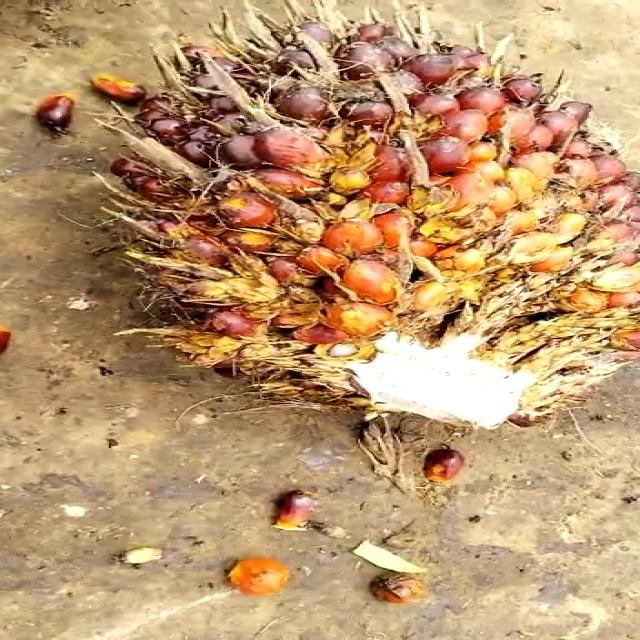palm oil: (70, 2, 640, 450)
